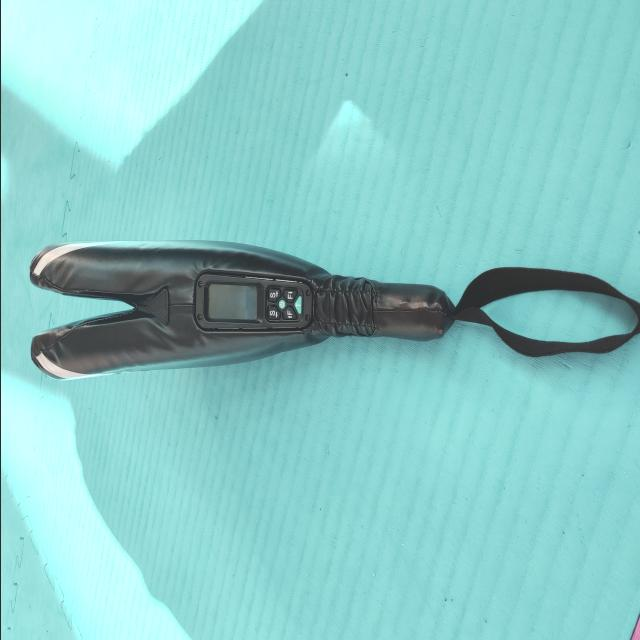paddle: (25, 232, 452, 386)
